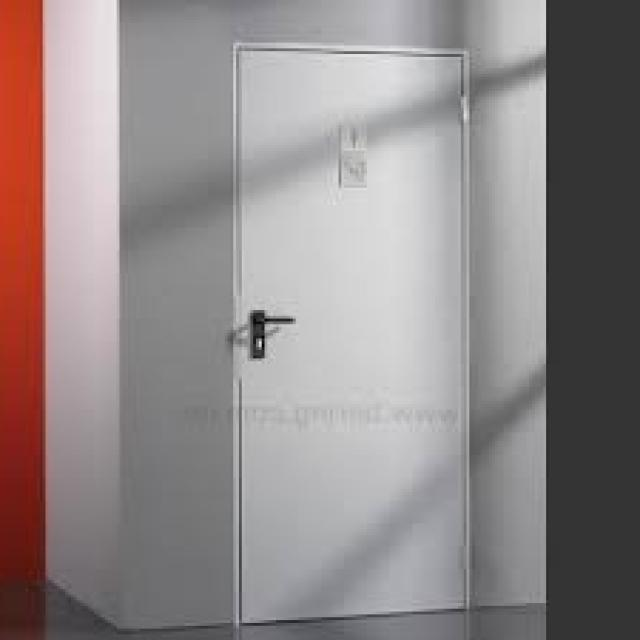door: (232, 42, 471, 626)
